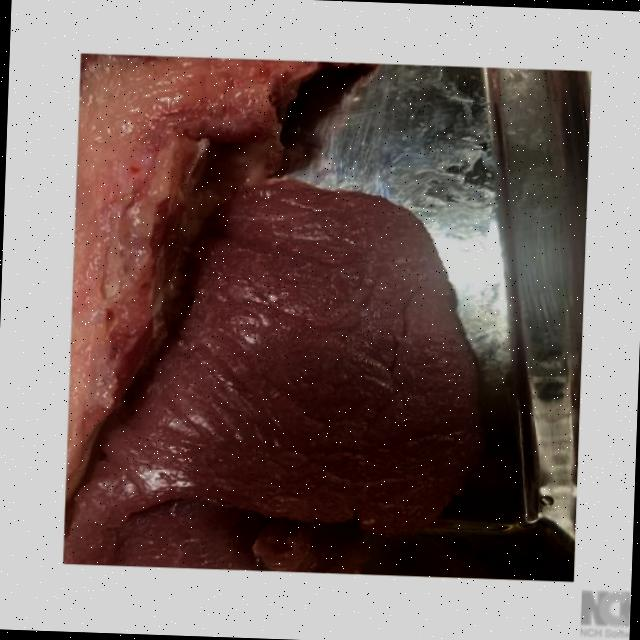rotten meat: (39, 33, 617, 592)
